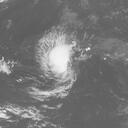cyclone: (47, 44, 70, 75)
